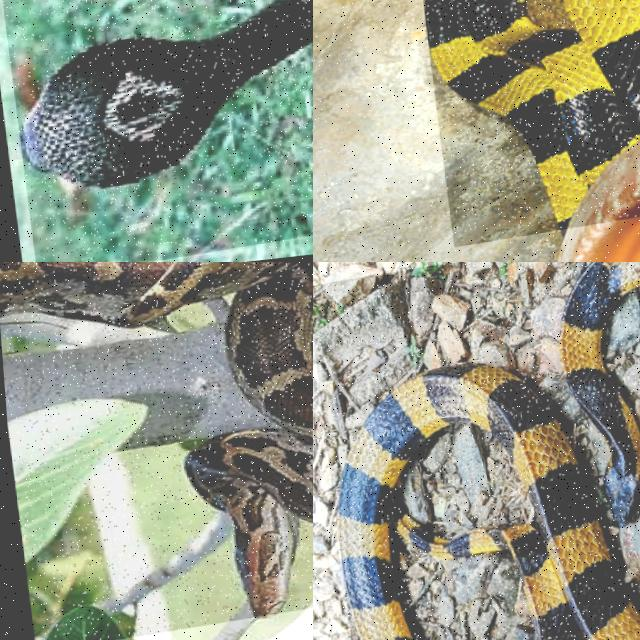Bungarus fasciatus: (338, 366, 639, 639), (425, 0, 639, 229)
Naja kaouthia: (22, 0, 312, 187)
Python bivittatus: (0, 262, 312, 617)
snake: (0, 262, 312, 617), (338, 366, 639, 639), (22, 0, 312, 187), (425, 0, 639, 229)
